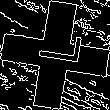L_W: (27, 36, 83, 74)
